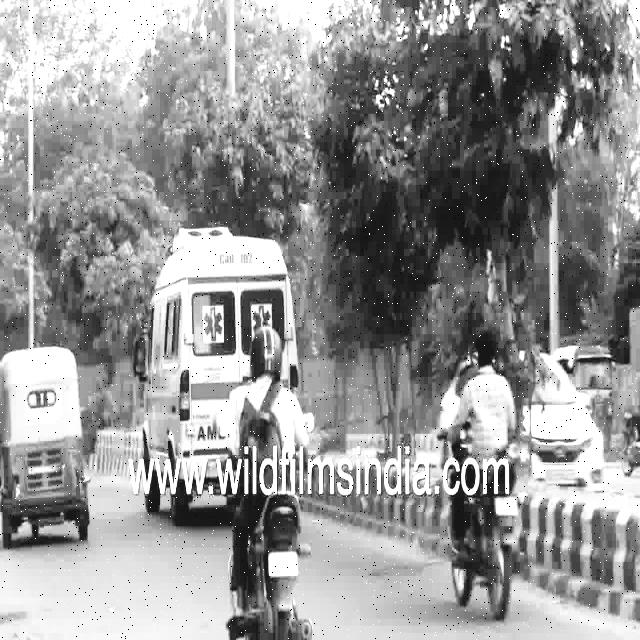Ambulance: (125, 221, 350, 453)
